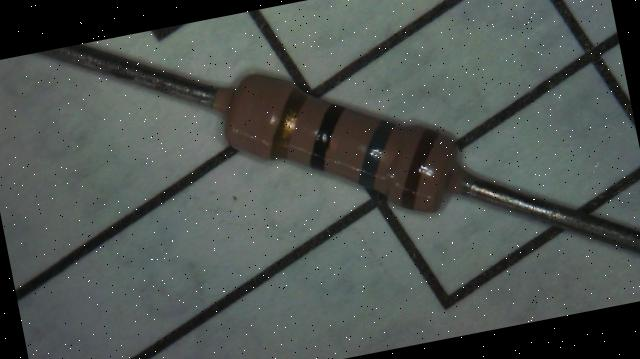black: (300, 100, 355, 171)
brown: (390, 128, 449, 209)
gold: (260, 88, 317, 160)
grey: (348, 117, 406, 190)
resistor: (193, 43, 493, 242)
